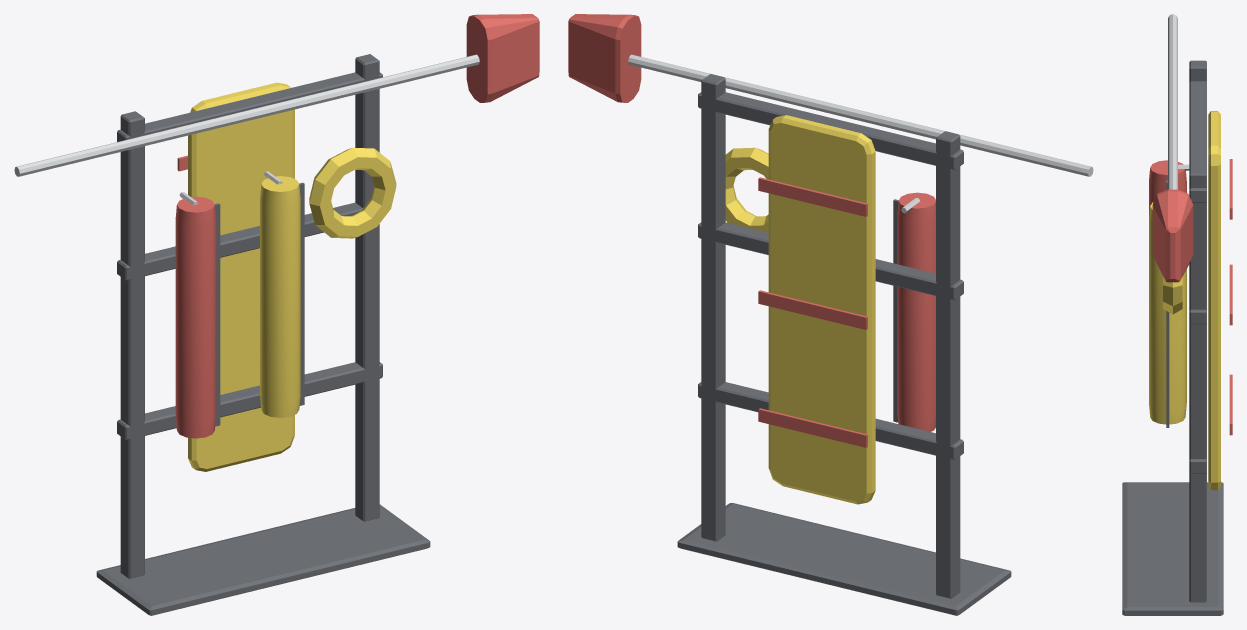
Rendered from public-swimming-baths-and-poolside-rescue-tube-and-pol-ae3b7c1a__35253.glb.
3 views of the same model, side by side, from view 1: azimuth 30°, elevation 25°; view 2: azimuth 150°, elevation 25°; view 3: azimuth 270°, elevation 25° (orthographic). The views are drawn at different scales.
Visible parts, largest first — view 1: rescue-tube-and-pole-rack; view 2: rescue-tube-and-pole-rack; view 3: rescue-tube-and-pole-rack.
Part boxes in pixels (left/top/right/bottom): rescue-tube-and-pole-rack: left=14, top=14, right=539, bottom=615; rescue-tube-and-pole-rack: left=568, top=14, right=1093, bottom=615; rescue-tube-and-pole-rack: left=1122, top=14, right=1232, bottom=615.
Bounding box in the file's own units: 2.22 × 2.01 × 0.4359.
